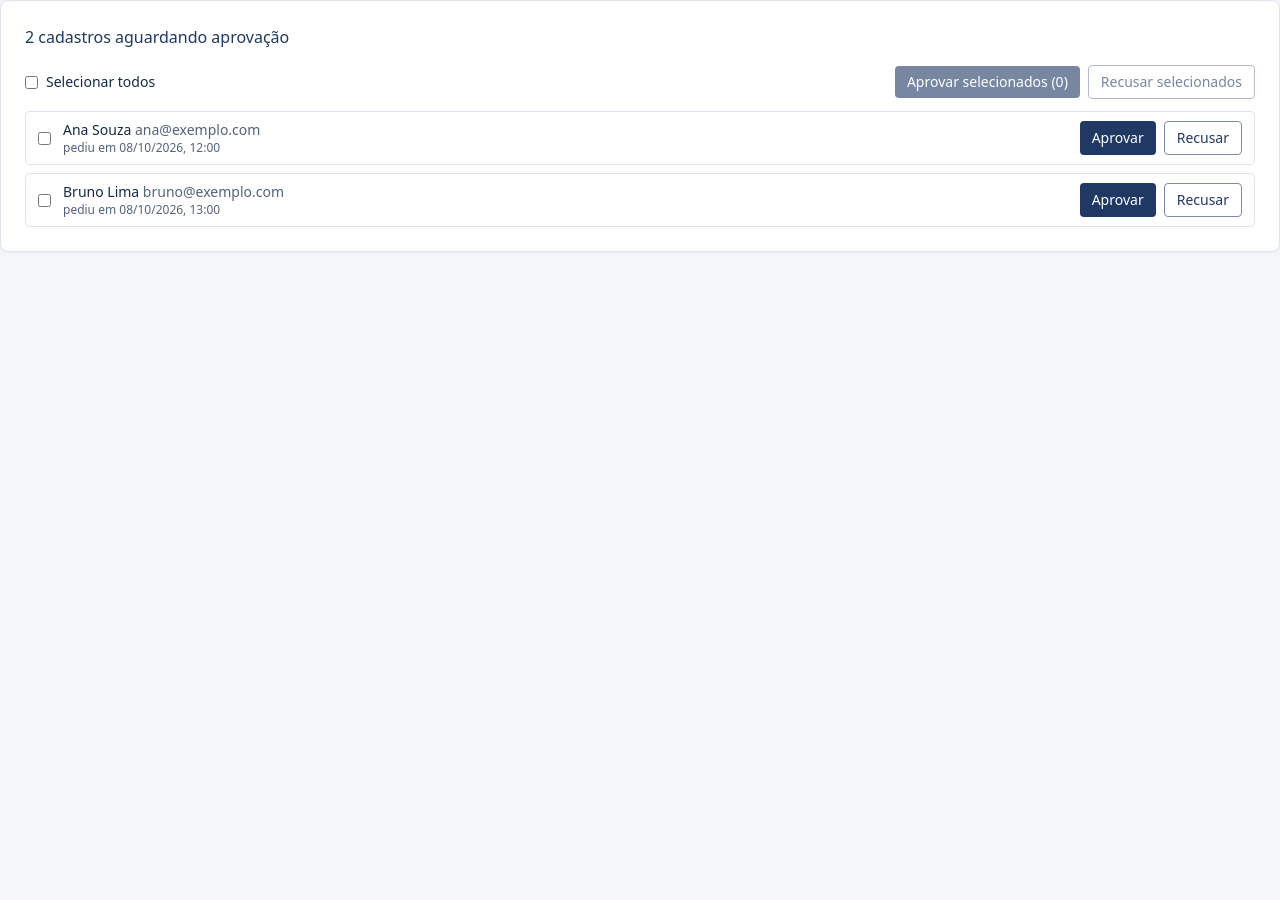
Test case: Pedidos de cadastro no painel › recusar pergunta antes, porque apaga o pedido
The width and height of the screenshot is (1280, 900).
Step 1. Click the button with aria-label "Recusar Bruno Lima" → (1203, 200), box [1164,183,1242,217]
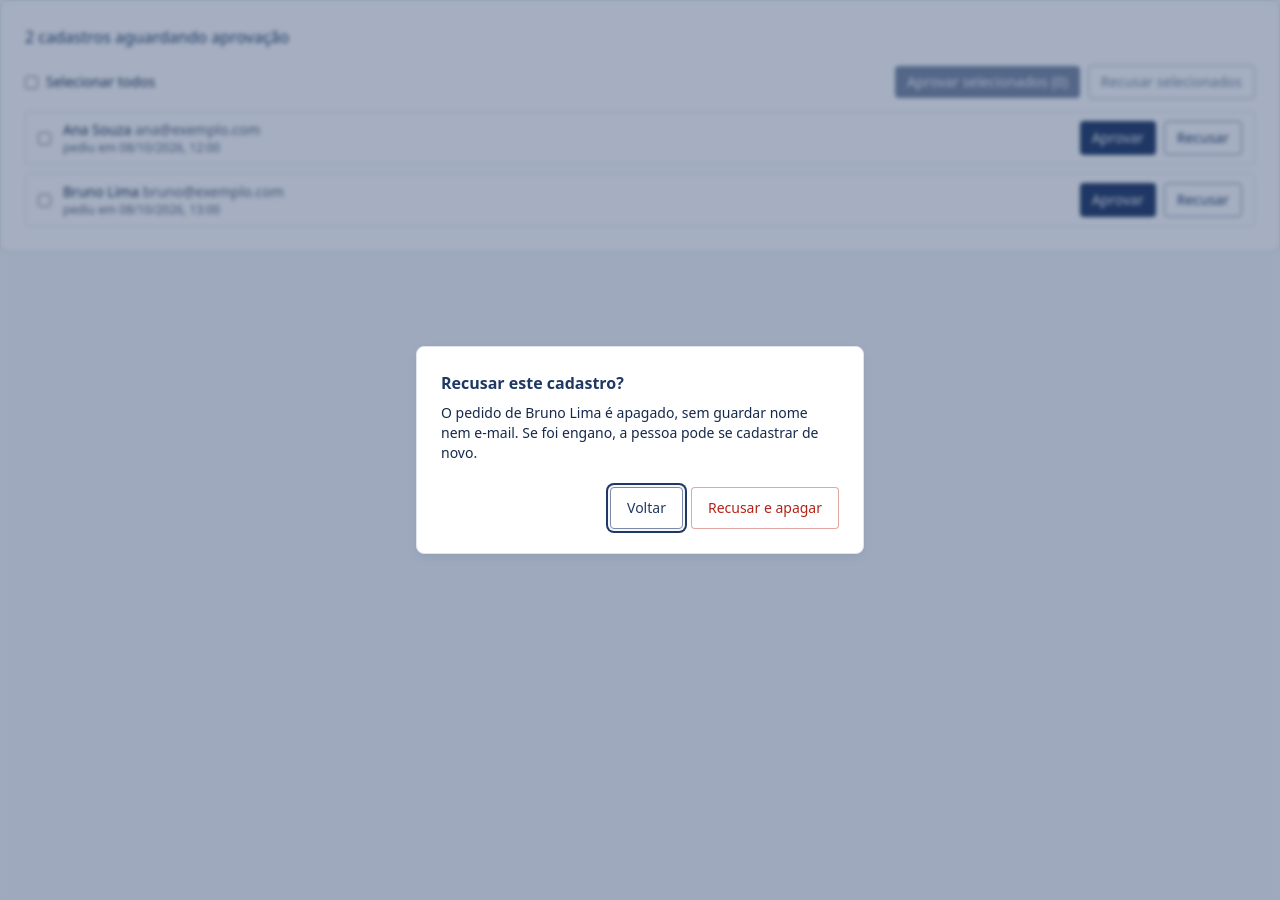
Now the dialog "Recusar este cadastro?" shows "Bruno Lima", box [441,403,674,422]
Step 2. Click the button "Voltar" → (646, 508), box [610,487,683,529]
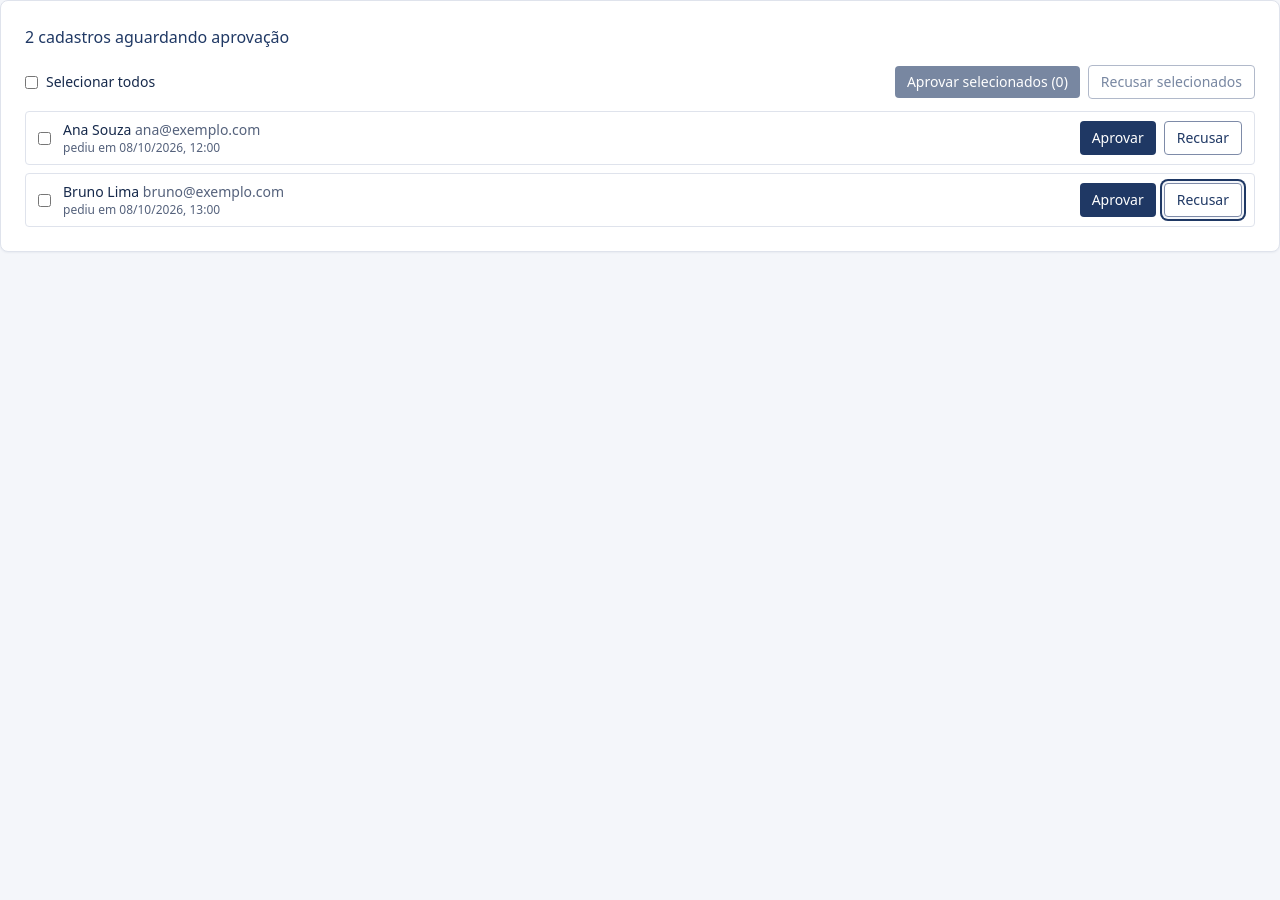
Step 3. Click the button with aria-label "Recusar Bruno Lima" → (1203, 200), box [1164,183,1242,217]
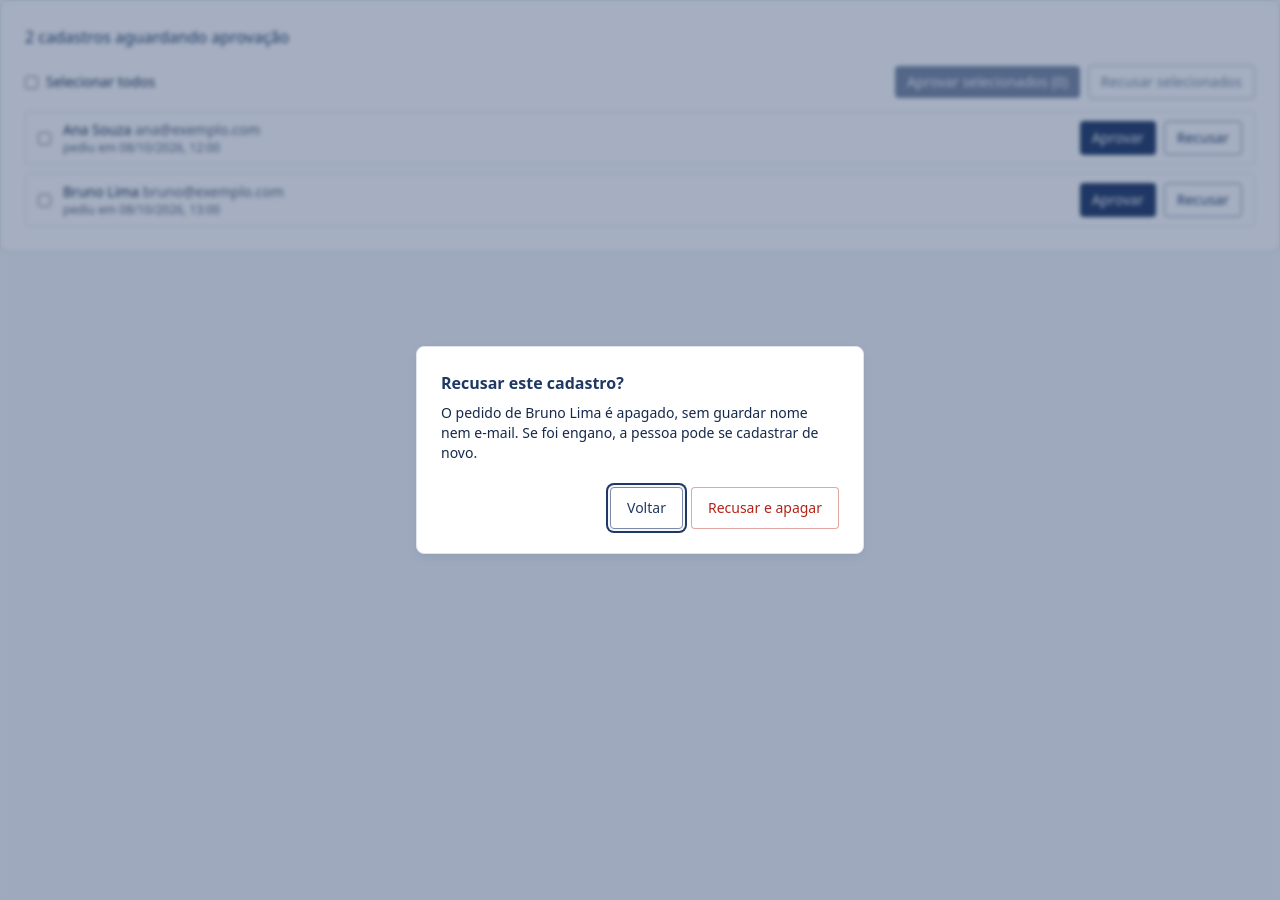
Step 4. Click the button "Recusar e apagar" → (765, 508), box [691,487,839,529]
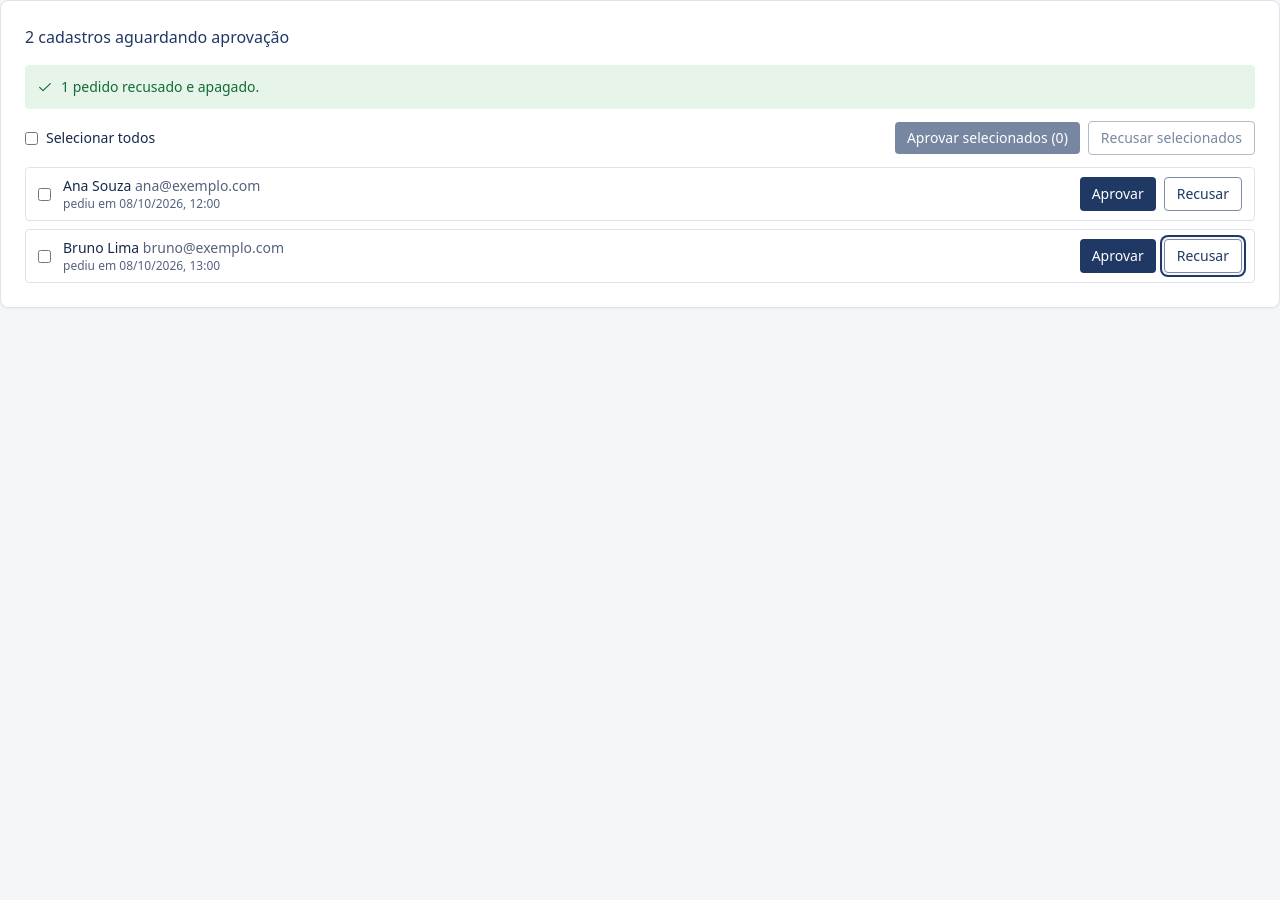
Now the text "1 pedido recusado e apagado." is shown, box [61,77,259,96]
